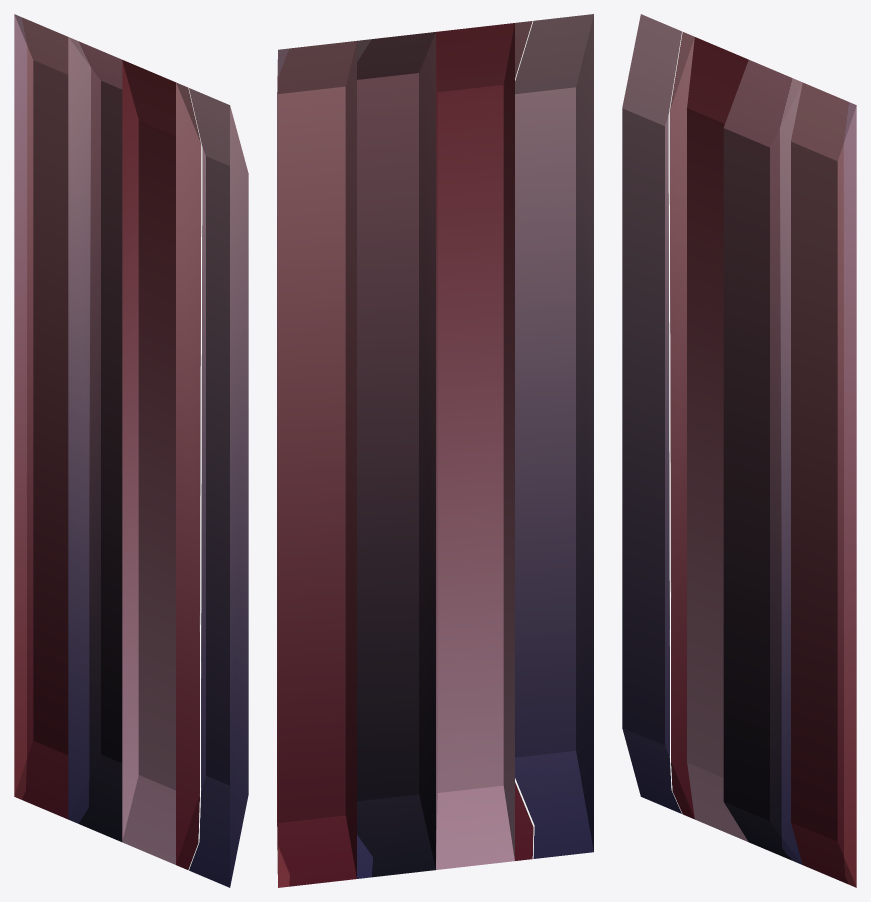
Rendered from Mineral.Prop.2.fbx.
The picture shows the model from 3 angles, left to right: view 1: azimuth 90°, elevation 25°; view 2: azimuth 150°, elevation 25°; view 3: azimuth 270°, elevation 25°; orthographic projection. The views are drawn at different scales.
Parts seen in each view (by area): view 1: discombobulated_mesh; view 2: discombobulated_mesh; view 3: discombobulated_mesh.
Boxes of the visible parts, left/top/right/bottom form: discombobulated_mesh: left=14, top=14, right=248, bottom=887; discombobulated_mesh: left=277, top=14, right=593, bottom=887; discombobulated_mesh: left=622, top=14, right=856, bottom=887.
Bounding box in the file's own units: 106 × 400 × 109.
